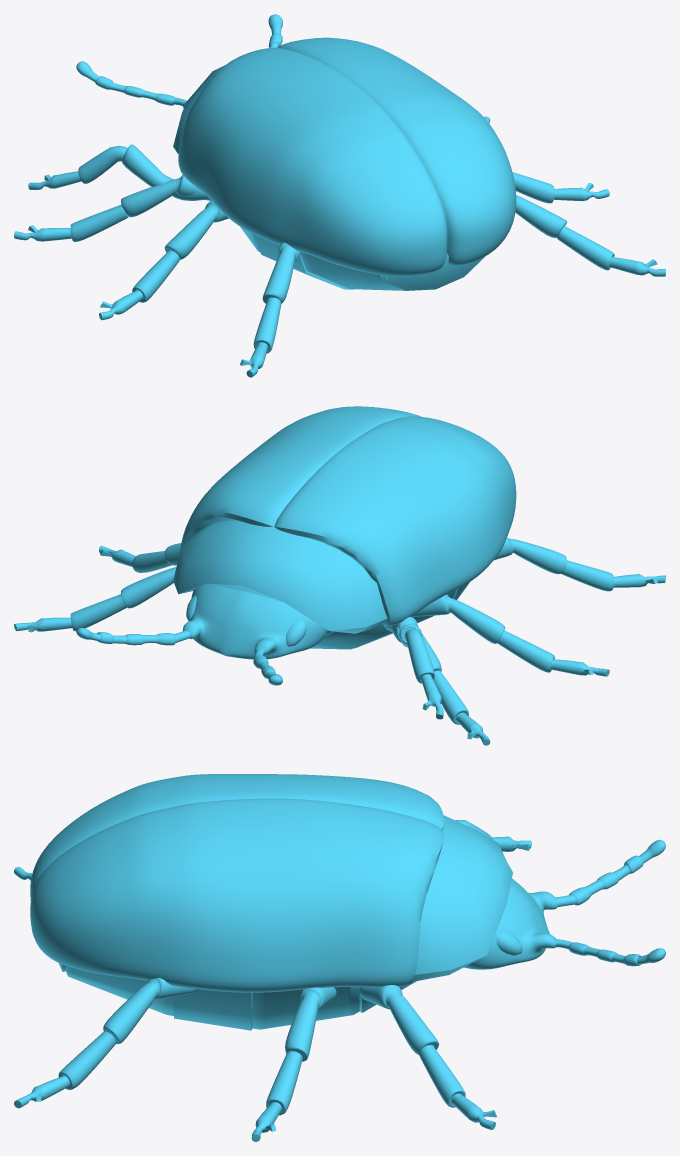
File: bbhermoso.gltf
3 views of the same model, one above another, from view 1: azimuth 30°, elevation 25°; view 2: azimuth 150°, elevation 25°; view 3: azimuth 270°, elevation 25° (orthographic). The views are drawn at different scales.
Visible parts, largest first — view 1: Alas, Cube, Cube_3, Sphere, Cube_2, Cube_4, Cube_5, Subdivision_Surface; view 2: Alas, Subdivision_Surface, Cube_5, Cube_3, Cube_2, Cube, Cube_4, Sphere, Subdivision_Surface_1; view 3: Alas, Subdivision_Surface, Sphere, Cube_5, Cube, Cube_2, Cube_3, Cube_4.
Boxes of the visible parts, x1=… form: Alas: x1=178, y1=37, x2=516, y2=276; Cube: x1=240, y1=195, x2=665, y2=377; Cube_3: x1=99, y1=172, x2=609, y2=320; Sphere: x1=240, y1=226, x2=484, y2=290; Cube_2: x1=14, y1=116, x2=490, y2=241; Cube_4: x1=28, y1=144, x2=210, y2=200; Cube_5: x1=76, y1=14, x2=282, y2=107; Subdivision_Surface: x1=173, y1=65, x2=224, y2=154; Alas: x1=179, y1=406, x2=516, y2=626; Subdivision_Surface: x1=173, y1=520, x2=387, y2=633; Cube_5: x1=76, y1=583, x2=327, y2=685; Cube_3: x1=99, y1=543, x2=609, y2=676; Cube_2: x1=14, y1=567, x2=490, y2=745; Cube: x1=494, y1=538, x2=665, y2=591; Cube_4: x1=391, y1=624, x2=443, y2=719; Sphere: x1=310, y1=581, x2=470, y2=649; Subdivision_Surface_1: x1=186, y1=595, x2=306, y2=646; Alas: x1=30, y1=774, x2=444, y2=992; Subdivision_Surface: x1=412, y1=815, x2=512, y2=981; Sphere: x1=59, y1=963, x2=416, y2=1030; Cube_5: x1=464, y1=839, x2=665, y2=969; Cube: x1=14, y1=866, x2=195, y2=1108; Cube_2: x1=360, y1=985, x2=496, y2=1129; Cube_3: x1=251, y1=987, x2=336, y2=1141; Cube_4: x1=455, y1=820, x2=531, y2=851.
Size of the model in its own units: 4.87 by 1.74 by 4.71.
